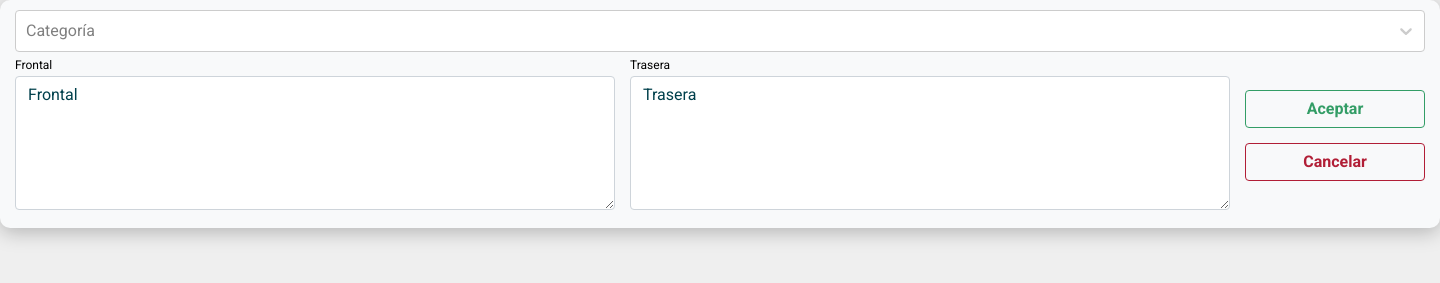
Test: TarjetasForm create tests › should clear validation error message when filling out the form correctly
Click the button "Aceptar" at (1335, 108), box x1=1245 y1=90 x2=1425 y2=128
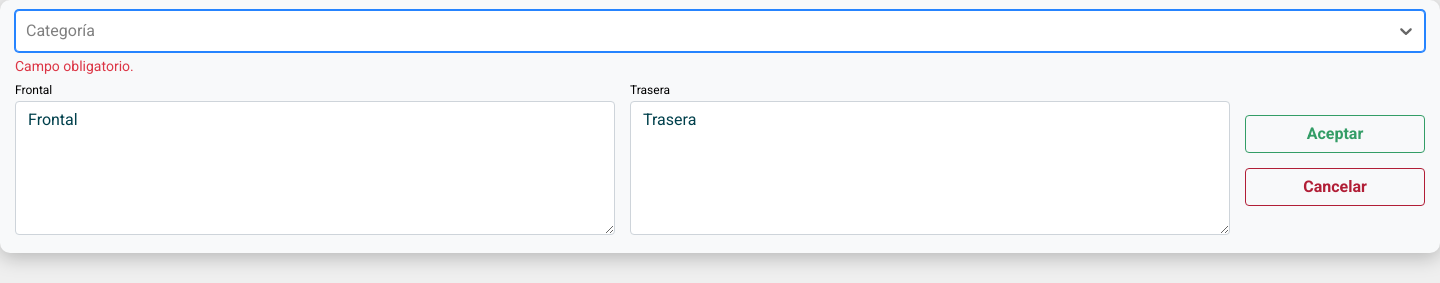
expect the text "Campo obligatorio." is shown once: met, box x1=15 y1=58 x2=134 y2=74
Click the element named "Categorias" at (720, 31), box x1=15 y1=10 x2=1425 y2=52
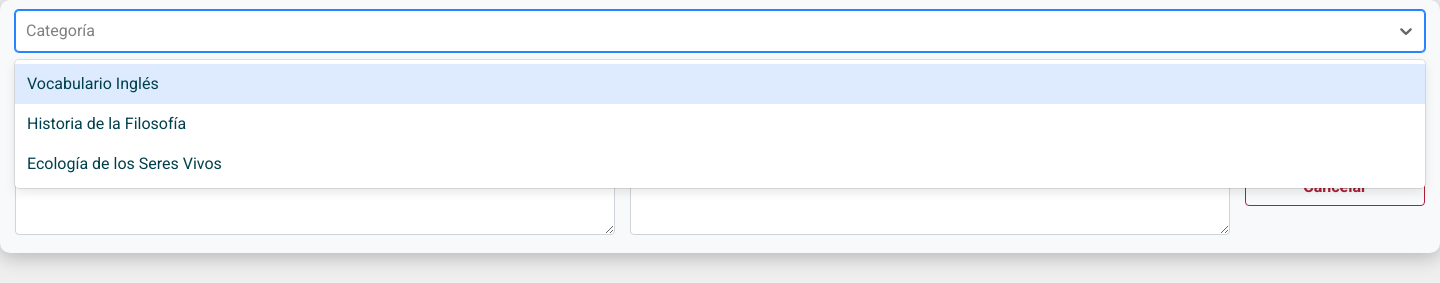
Click the option "Vocabulario Inglés" at (93, 84), box x1=15 y1=64 x2=1425 y2=104
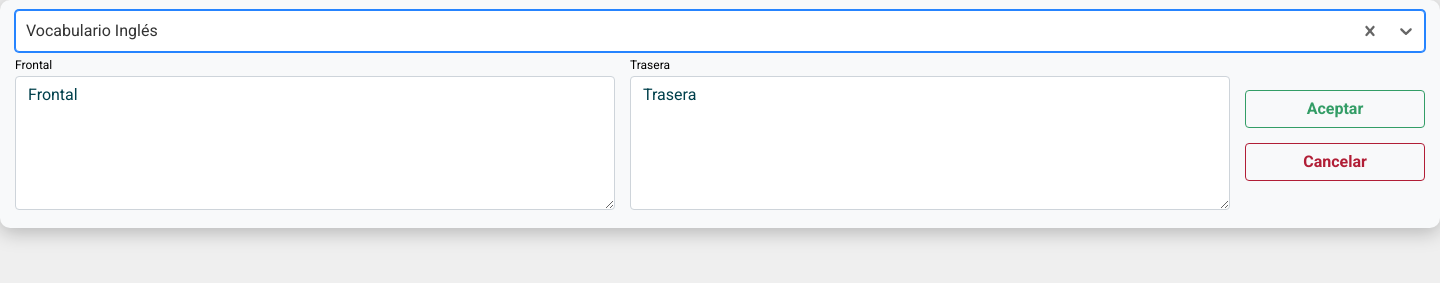
expect the text "Campo obligatorio." is not shown: met
